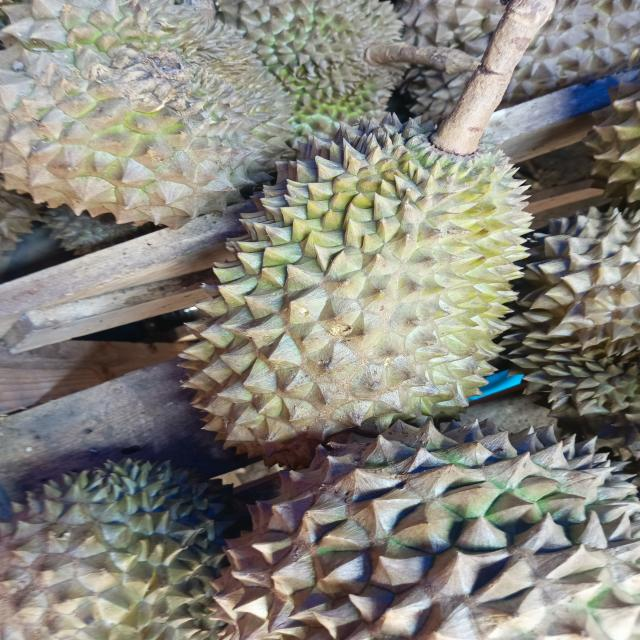mature: (173, 112, 525, 454), (215, 422, 640, 640), (0, 0, 292, 229), (0, 459, 244, 640), (218, 0, 479, 131), (501, 208, 640, 420), (501, 0, 640, 106), (396, 0, 505, 57), (404, 70, 467, 116)
